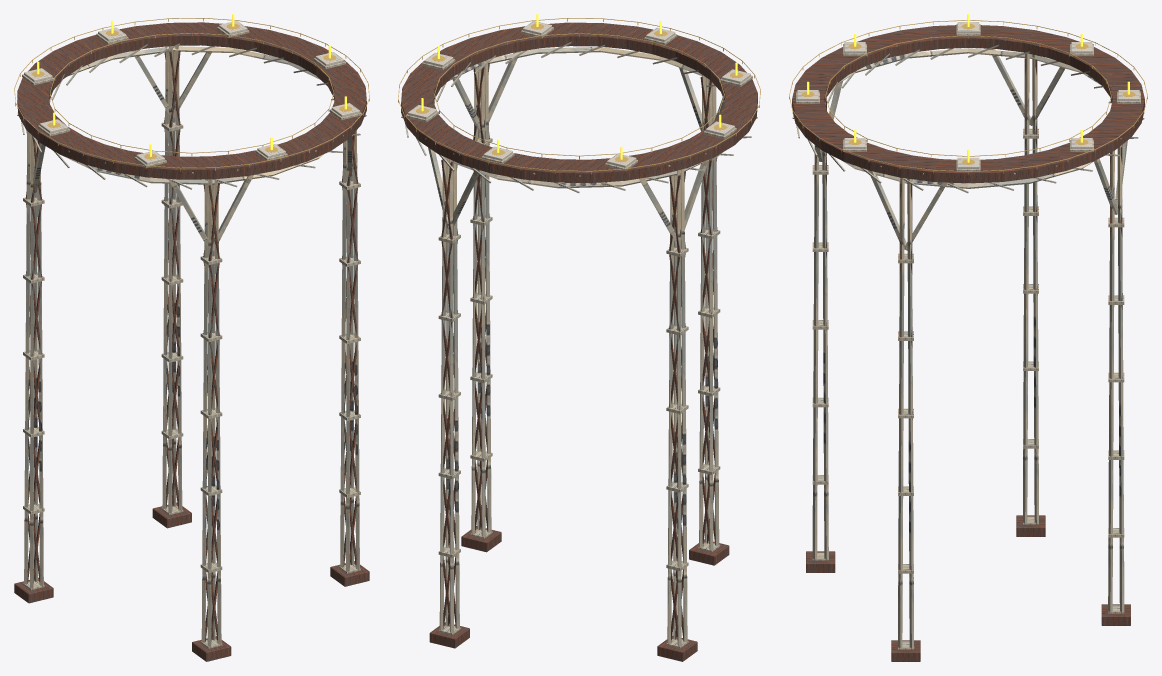
File: launchRing.glb
3 views of the same model, side by side, from view 1: azimuth 30°, elevation 25°; view 2: azimuth 150°, elevation 25°; view 3: azimuth 270°, elevation 25° (orthographic). The views are drawn at different scales.
Visible parts, largest first — view 1: LaunchRingDeck, RingLowerChord.196, LegChord.2.-2.2.-2.2, LegChord.1.-2.2.-2.2, LegChord.1.-2.2.2.2, LegChord.0.-2.2.-2.2, LegChord.2.-2.2.2.2, LegChord.3.-2.2.2.2, LegChord.3.-2.2.-2.2, LegChord.0.-2.2.2.2, LegChord.1.2.2.2.2, LegChord.0.2.2.2.2 (+10 smaller); view 2: LaunchRingDeck, RingLowerChord.196, LegChord.2.-2.2.-2.2, LegChord.2.-2.2.2.2, LegChord.3.-2.2.-2.2, LegChord.3.-2.2.2.2, LegChord.0.-2.2.-2.2, LegChord.0.-2.2.2.2, LegChord.1.-2.2.2.2, LegChord.1.-2.2.-2.2, LegChord.3.2.2.-2.2, LegChord.2.2.2.-2.2 (+10 smaller); view 3: LaunchRingDeck, LegChord.3.2.2.-2.2, LegChord.0.2.2.2.2, LegChord.0.2.2.-2.2, RingLowerChord.196, LegChord.3.2.2.2.2, LegChord.2.2.2.2.2, LegChord.2.2.2.-2.2, LegChord.1.2.2.-2.2, LegChord.1.2.2.2.2, StrutFoot.0, StrutFoot.2 (+2 smaller).
Boxes of the visible parts, <box> form: LaunchRingDeck: <box>17,22,366,179</box>; RingLowerChord.196: <box>52,46,323,184</box>; LegChord.2.-2.2.-2.2: <box>24,131,30,584</box>; LegChord.1.-2.2.-2.2: <box>201,179,208,643</box>; LegChord.1.-2.2.2.2: <box>207,179,212,647</box>; LegChord.0.-2.2.-2.2: <box>340,140,346,568</box>; LegChord.2.-2.2.2.2: <box>30,134,34,589</box>; LegChord.3.-2.2.2.2: <box>168,46,172,513</box>; LegChord.3.-2.2.-2.2: <box>162,46,168,509</box>; LegChord.0.-2.2.2.2: <box>346,140,350,571</box>; LegChord.1.2.2.2.2: <box>214,179,221,644</box>; LegChord.0.2.2.2.2: <box>353,130,359,570</box>; LaunchRingDeck: <box>401,22,757,183</box>; RingLowerChord.196: <box>447,47,722,188</box>; LegChord.2.-2.2.-2.2: <box>677,170,681,647</box>; LegChord.2.-2.2.2.2: <box>680,169,687,642</box>; LegChord.3.-2.2.-2.2: <box>449,159,453,634</box>; LegChord.3.-2.2.2.2: <box>453,163,459,629</box>; LegChord.0.-2.2.-2.2: <box>481,61,485,537</box>; LegChord.0.-2.2.2.2: <box>484,60,491,533</box>; LegChord.1.-2.2.2.2: <box>712,82,719,546</box>; LegChord.1.-2.2.-2.2: <box>708,79,713,551</box>; LegChord.3.2.2.-2.2: <box>439,156,446,630</box>; LegChord.2.2.2.-2.2: <box>667,171,674,643</box>; LaunchRingDeck: <box>792,25,1144,183</box>; LegChord.3.2.2.-2.2: <box>1117,145,1124,613</box>; LegChord.0.2.2.2.2: <box>898,178,904,649</box>; LegChord.0.2.2.-2.2: <box>907,178,914,649</box>; RingLowerChord.196: <box>837,48,1101,188</box>; LegChord.3.2.2.2.2: <box>1108,150,1114,613</box>; LegChord.2.2.2.2.2: <box>1023,53,1029,524</box>; LegChord.2.2.2.-2.2: <box>1032,54,1038,524</box>; LegChord.1.2.2.-2.2: <box>822,151,828,560</box>; LegChord.1.2.2.2.2: <box>812,145,818,560</box>; StrutFoot.0: <box>891,640,920,661</box>; StrutFoot.2: <box>1016,515,1045,536</box>.
Size of what is drawn, in the model's own units: 134 by 211 by 134.
5 materials, 3 textured.
